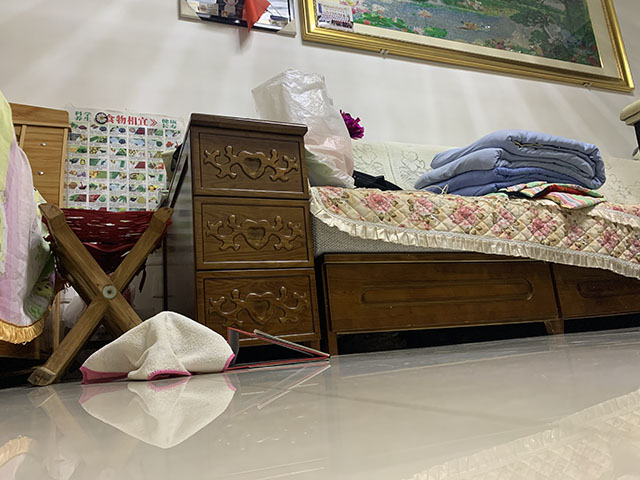sofa: (156, 68, 640, 358)
stool: (26, 202, 176, 387)
